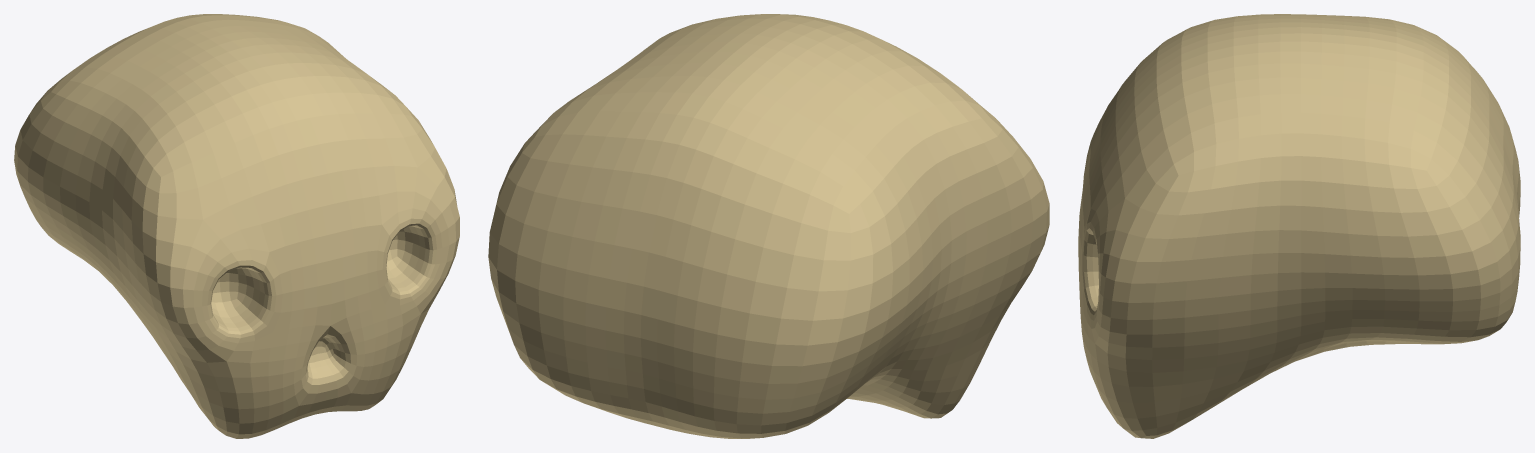
The model's file is CherepMin 1.fbx.
3 renders of one model, left to right at view 1: azimuth 30°, elevation 25°; view 2: azimuth 150°, elevation 25°; view 3: azimuth 270°, elevation 25°, orthographic. The views are drawn at different scales.
Parts seen in each view (by area): view 1: Cube.003; view 2: Cube.003; view 3: Cube.003.
Boxes of the visible parts, box(x1,y1,x2,y2) form: Cube.003: box(14, 14, 459, 438); Cube.003: box(488, 14, 1049, 438); Cube.003: box(1078, 14, 1520, 438).
Size of the model in its own units: 20.82 by 21.35 by 23.25.
